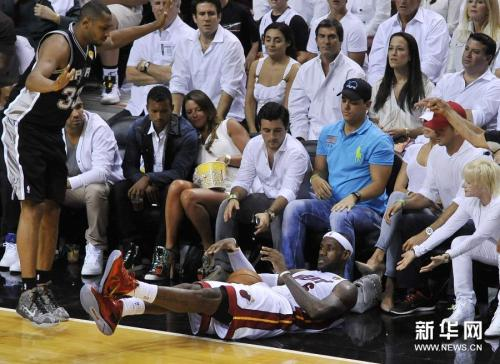10+: (5, 2, 494, 335)
down: (64, 234, 368, 344)
